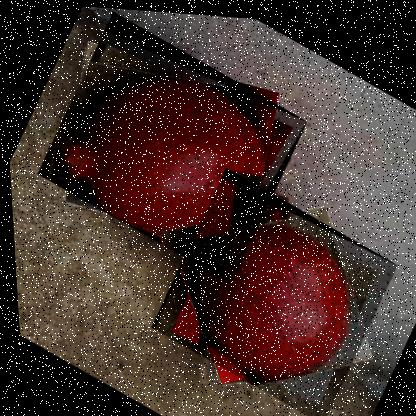pomegranate: (25, 3, 312, 285), (137, 157, 402, 415)
